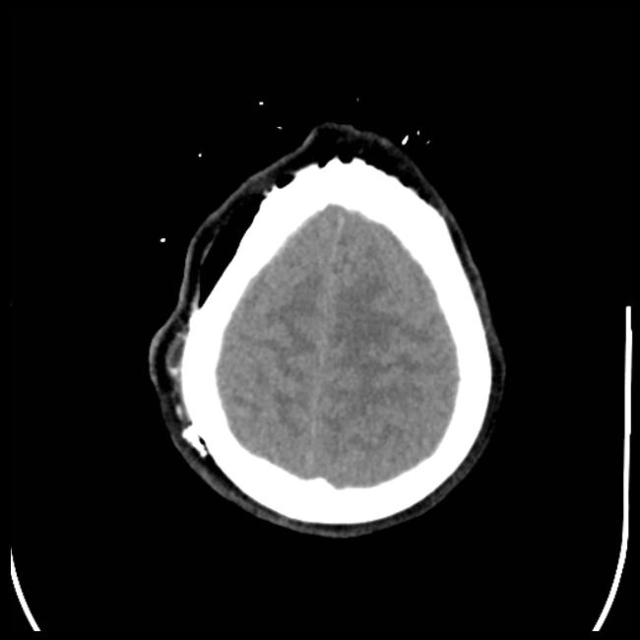lesion: (144, 118, 510, 542)
